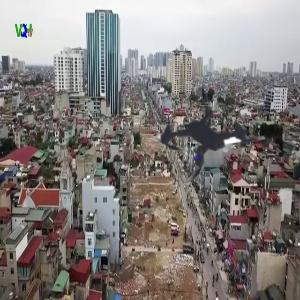drone: (123, 56, 299, 232)
